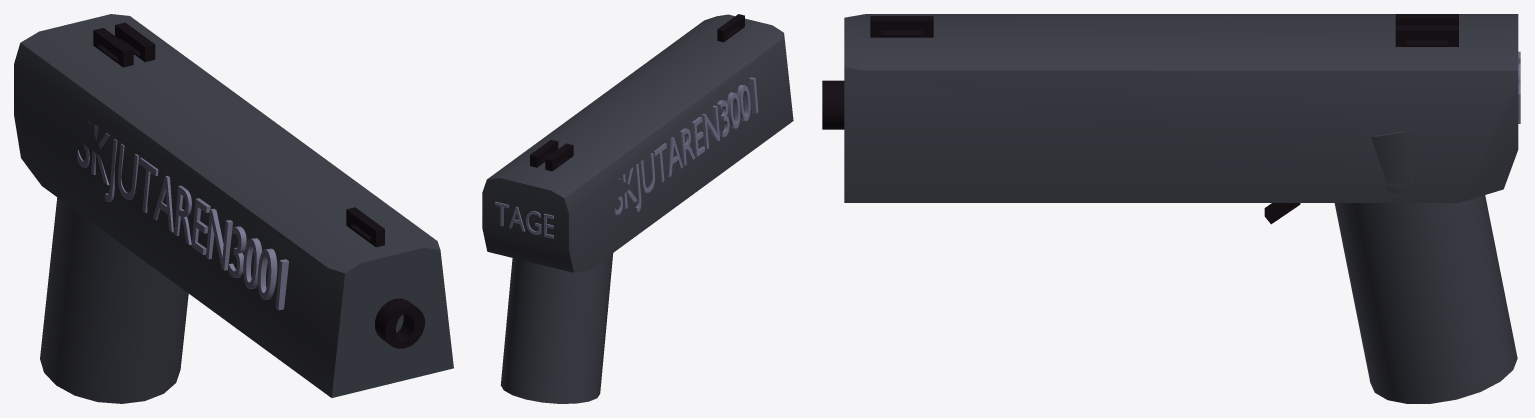
Rendered from TageWeapon.fbx.
The picture shows the model from 3 angles, left to right: view 1: azimuth 30°, elevation 25°; view 2: azimuth 150°, elevation 25°; view 3: azimuth 270°, elevation 25°; orthographic projection. The views are drawn at different scales.
Parts seen in each view (by area): view 1: Skjutaren3001; view 2: Skjutaren3001; view 3: Skjutaren3001.
Part boxes in pixels (bbox=[...]): Skjutaren3001: bbox=[14, 14, 453, 403]; Skjutaren3001: bbox=[482, 14, 793, 403]; Skjutaren3001: bbox=[822, 14, 1520, 403].
Size of the model in its own units: 0.1366 by 0.3573 by 0.6208.
